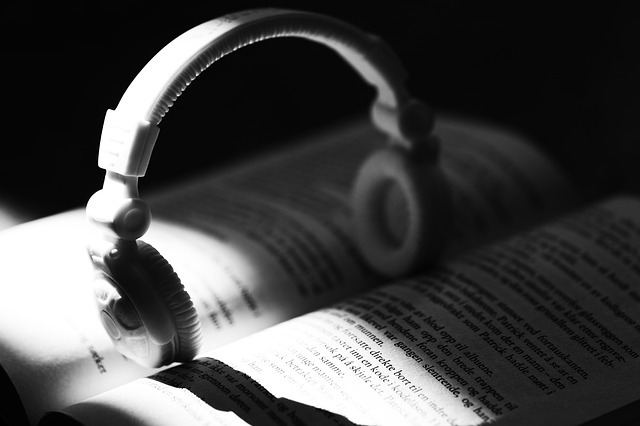headphones: (86, 9, 440, 370)
